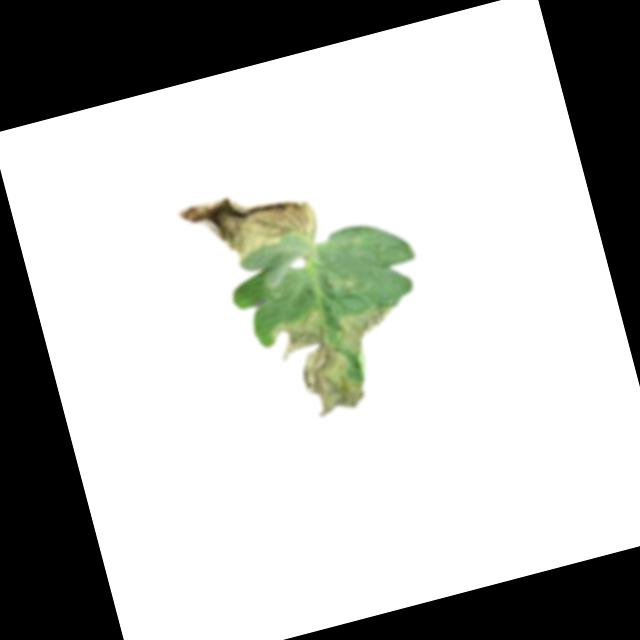Late_blight: (262, 288, 422, 426), (171, 170, 317, 268)
